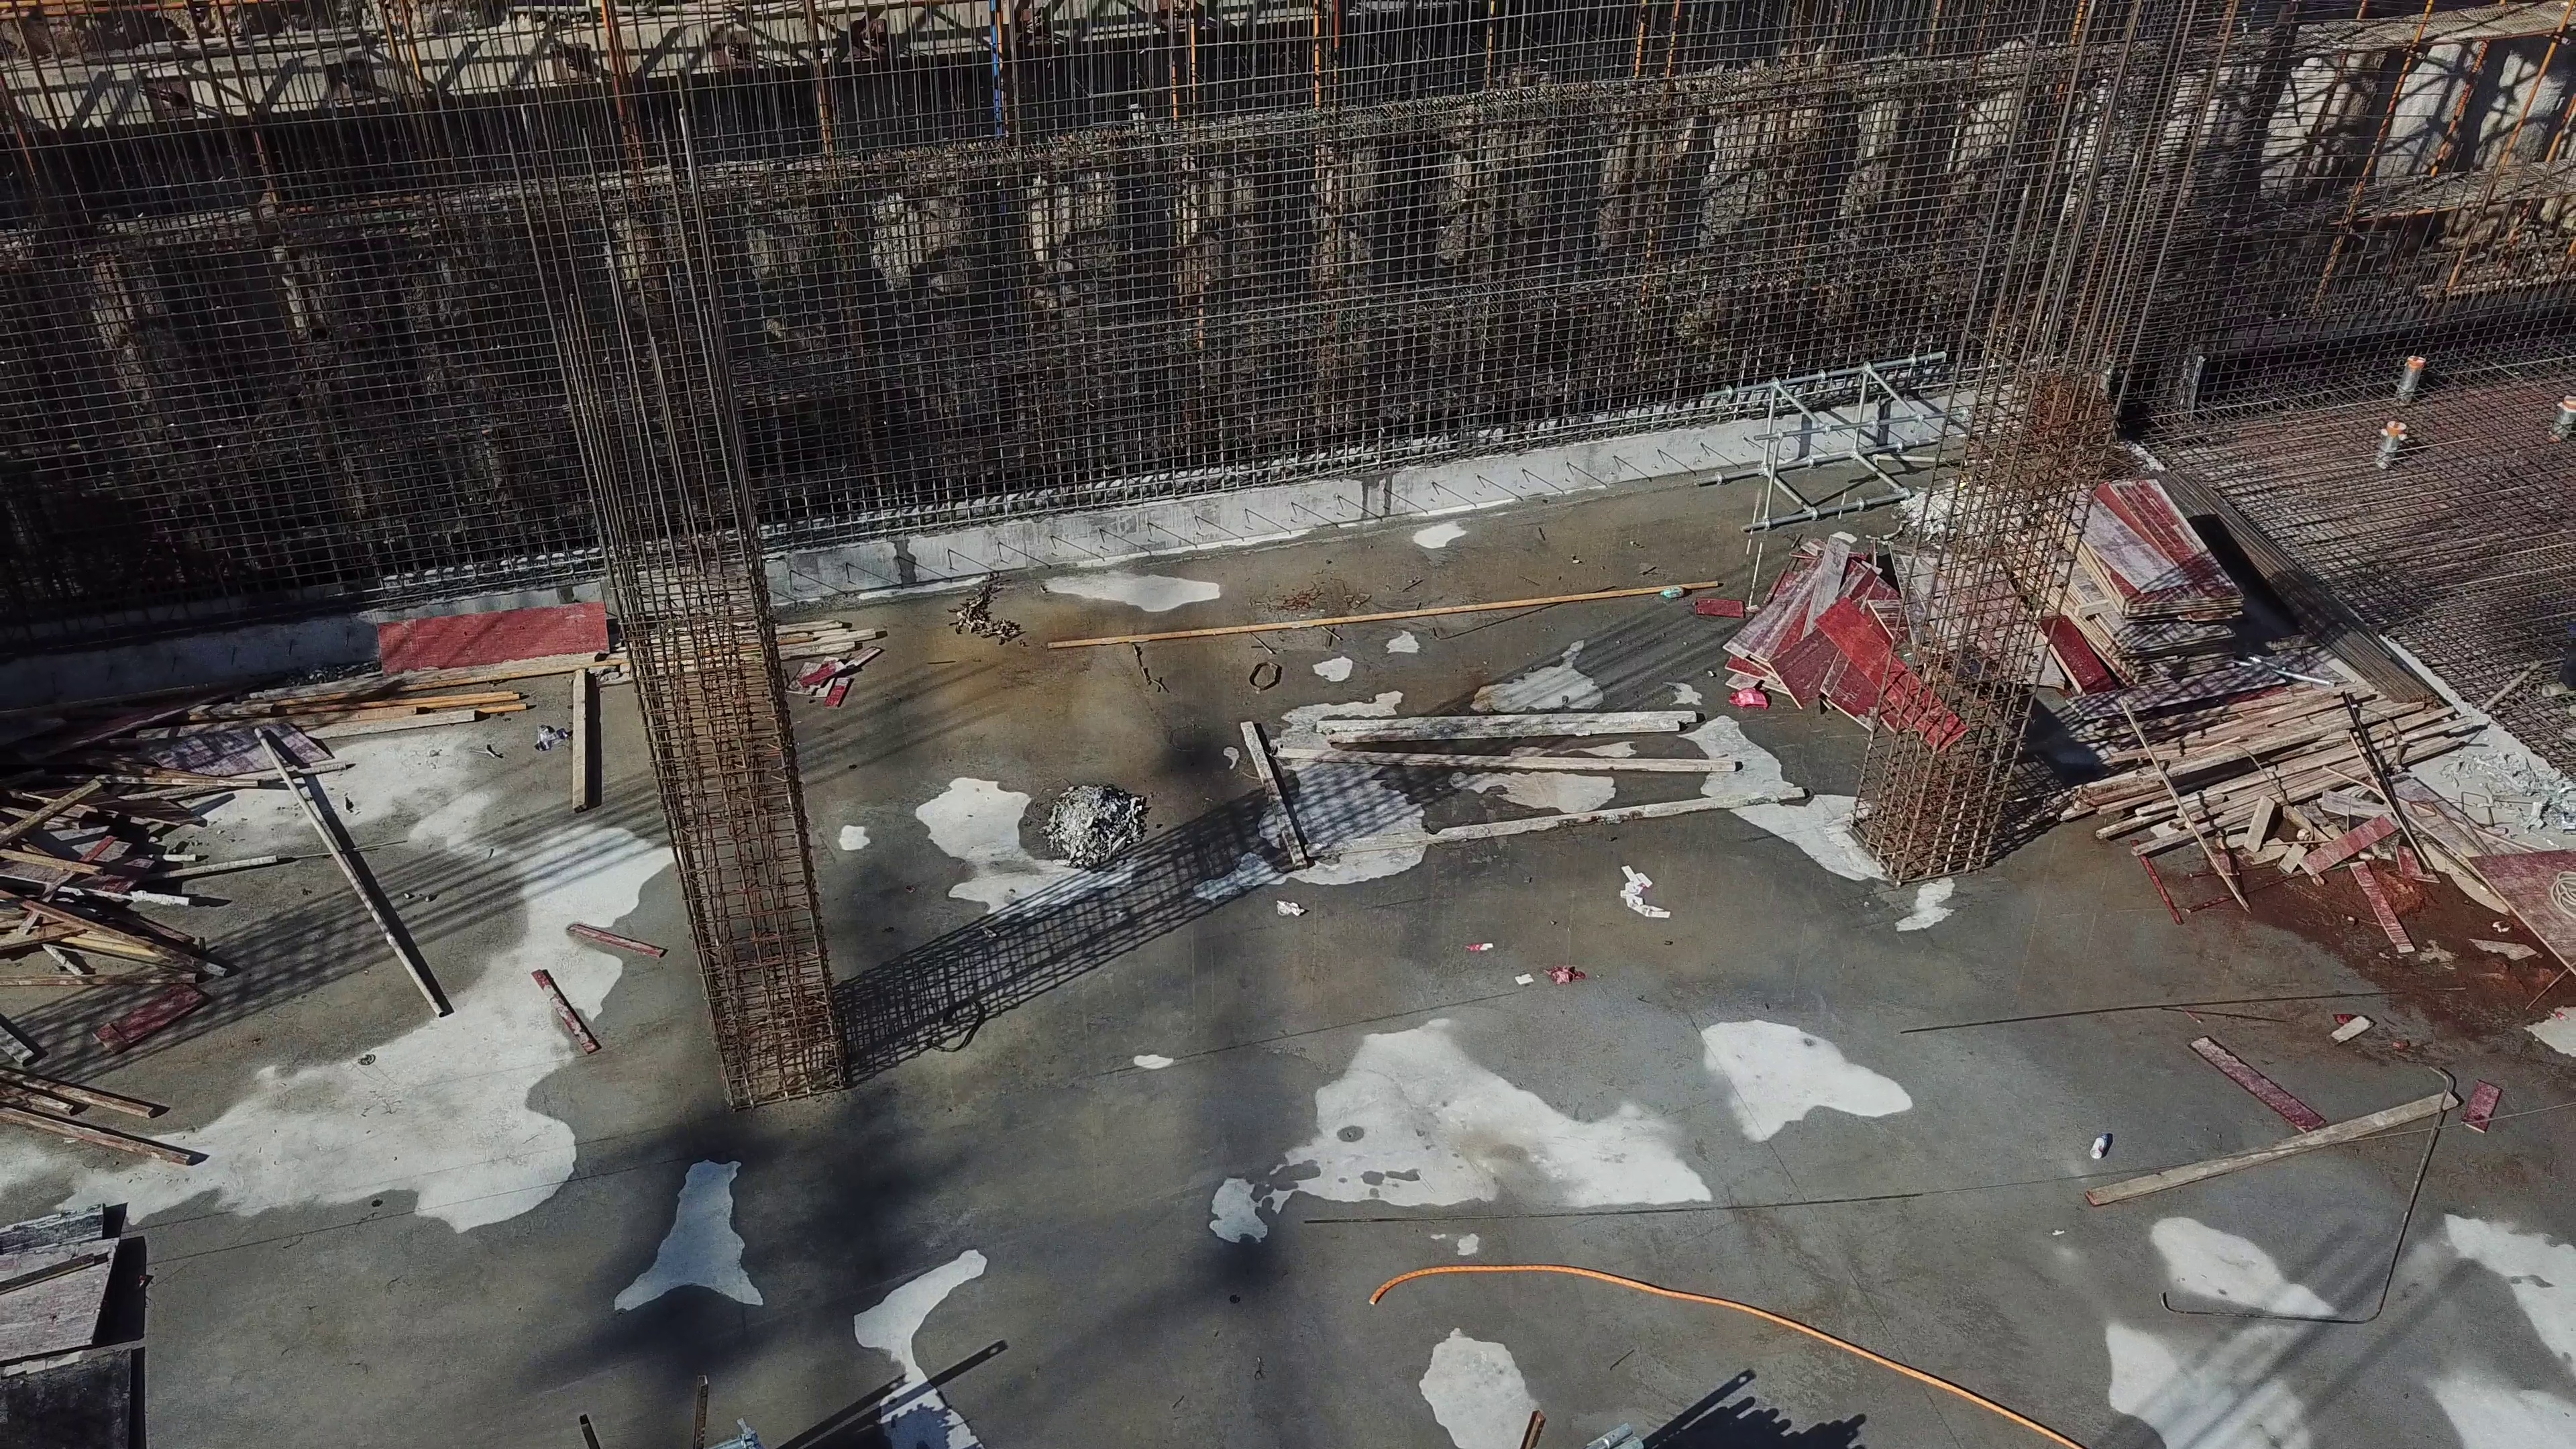board: (2029, 462, 2268, 720), (1716, 510, 1928, 741)
